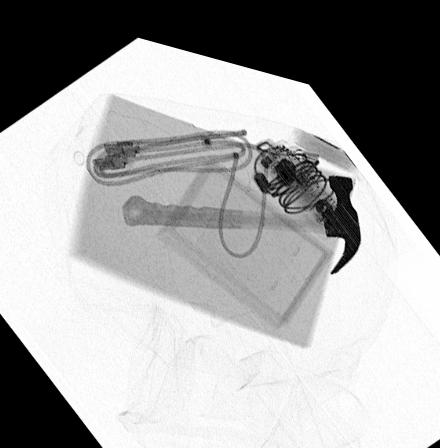Hammer: (118, 155, 362, 255)
